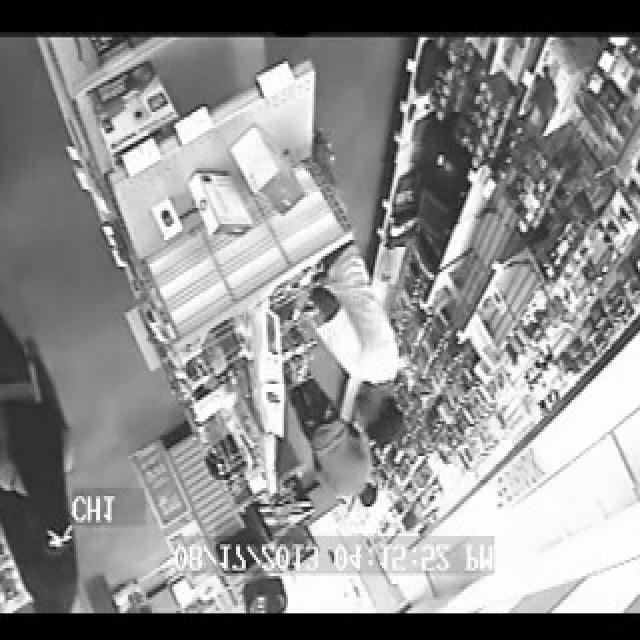Normal: (305, 163, 420, 447)
